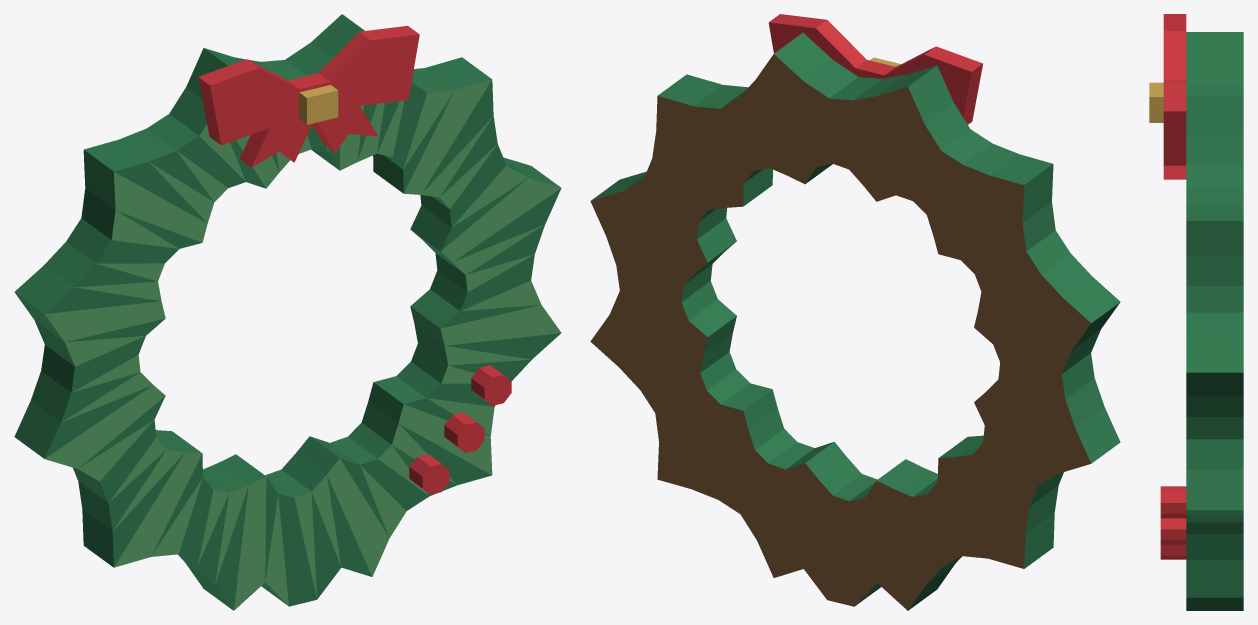
3 views of the same model, side by side, from view 1: azimuth 30°, elevation 25°; view 2: azimuth 150°, elevation 25°; view 3: azimuth 270°, elevation 25° (orthographic). The views are drawn at different scales.
Parts seen in each view (by area): view 1: WholeSerratedHollyRing, CompleteNotchedRibbonBow, GoldRibbonCentreTie, RedOctagonalBerry1, RedOctagonalBerry3, RedOctagonalBerry2; view 2: WholeSerratedHollyRing, CompleteNotchedRibbonBow; view 3: WholeSerratedHollyRing, CompleteNotchedRibbonBow, RedOctagonalBerry1, RedOctagonalBerry2, GoldRibbonCentreTie, RedOctagonalBerry3.
Part boxes in pixels (box(x1,y1,x2,y2)): WholeSerratedHollyRing: box(14, 14, 561, 610); CompleteNotchedRibbonBow: box(198, 25, 419, 167); GoldRibbonCentreTie: box(299, 85, 338, 124); RedOctagonalBerry1: box(471, 365, 511, 405); RedOctagonalBerry3: box(409, 454, 449, 494); RedOctagonalBerry2: box(444, 412, 484, 452); WholeSerratedHollyRing: box(590, 33, 1120, 610); CompleteNotchedRibbonBow: box(768, 14, 982, 124); WholeSerratedHollyRing: box(1186, 32, 1243, 610); CompleteNotchedRibbonBow: box(1163, 14, 1186, 179); RedOctagonalBerry1: box(1160, 486, 1186, 518); RedOctagonalBerry2: box(1160, 518, 1186, 544); GoldRibbonCentreTie: box(1149, 82, 1163, 122); RedOctagonalBerry3: box(1160, 544, 1186, 559).
Size of the model in its own units: 1.38 by 1.42 by 0.23.
